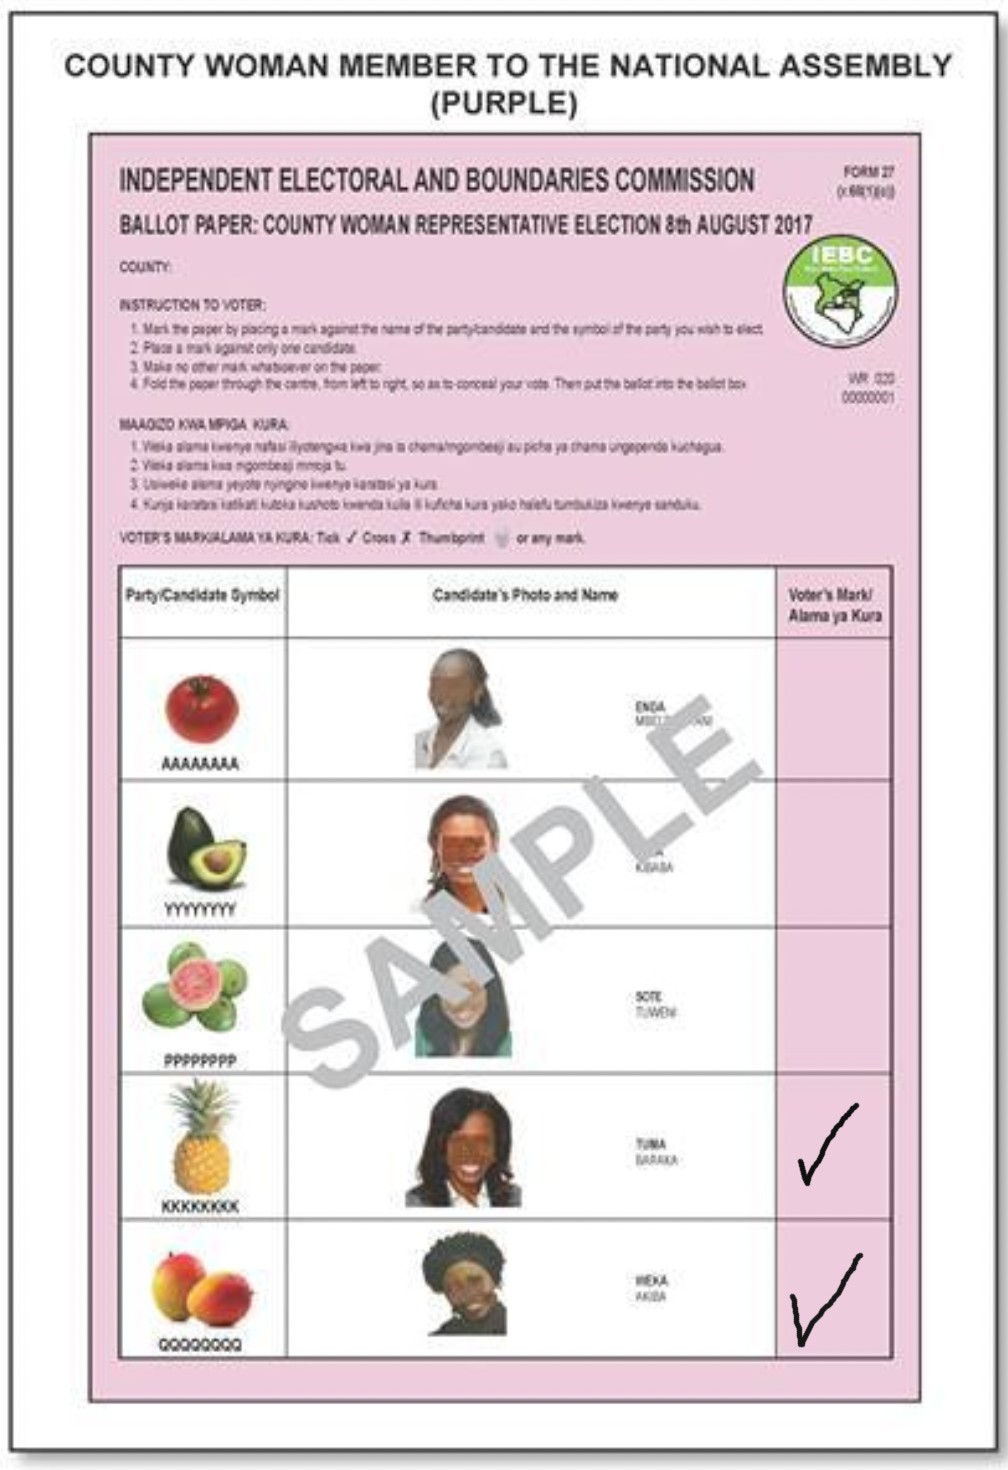mark: (782, 1083, 877, 1190), (788, 1233, 873, 1345)
